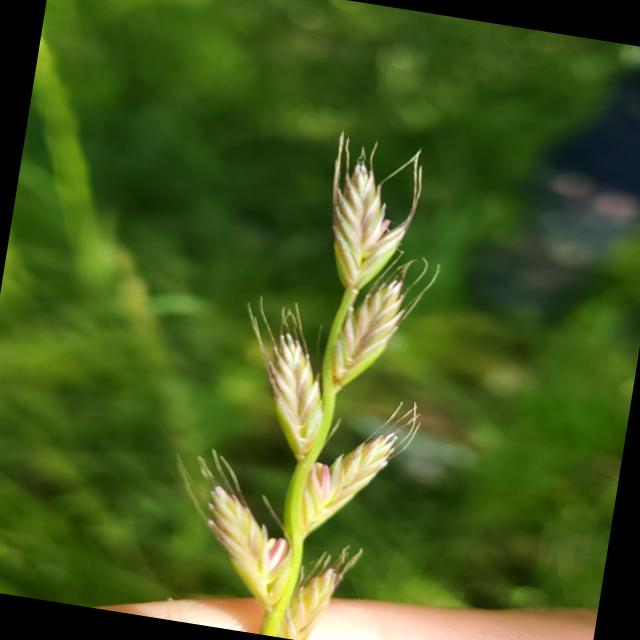Lolium: (147, 110, 469, 640)
